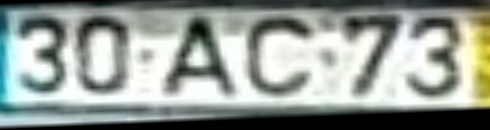0: (73, 14, 133, 98)
3: (404, 14, 469, 102), (15, 15, 72, 98)
7: (340, 13, 408, 101)
A: (157, 14, 246, 100)
C: (241, 15, 320, 101)
